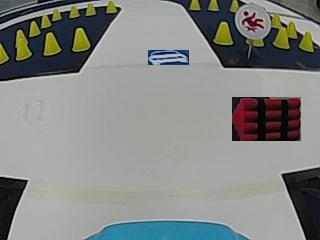cone: (213, 20, 233, 45), (14, 32, 30, 60), (72, 27, 90, 51), (43, 32, 60, 55), (273, 27, 289, 49), (298, 31, 313, 52), (28, 19, 40, 37), (286, 20, 296, 38), (271, 12, 281, 28), (40, 14, 51, 28), (51, 7, 62, 21), (0, 43, 7, 64), (106, 0, 117, 13), (85, 3, 96, 16), (69, 4, 79, 18), (207, 0, 219, 11), (229, 0, 239, 12), (189, 0, 200, 10)
tumble: (239, 7, 268, 36)
